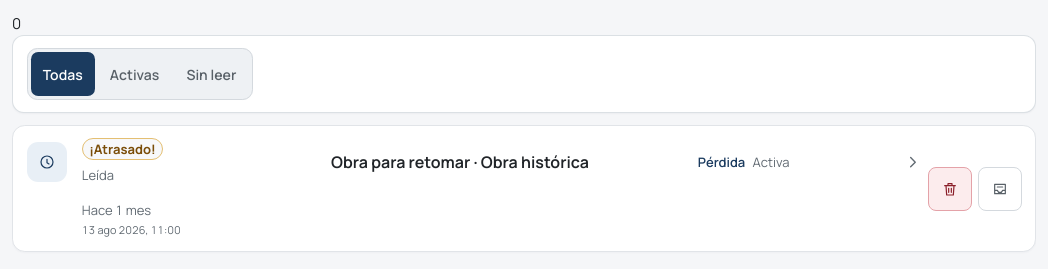
Test: NotificationsPage › increments active attention when a read active notification becomes unread
Click the button named "Marcar como no leída: Obra para retomar" at {"x": 1000, "y": 189}, box [978,167,1022,211]
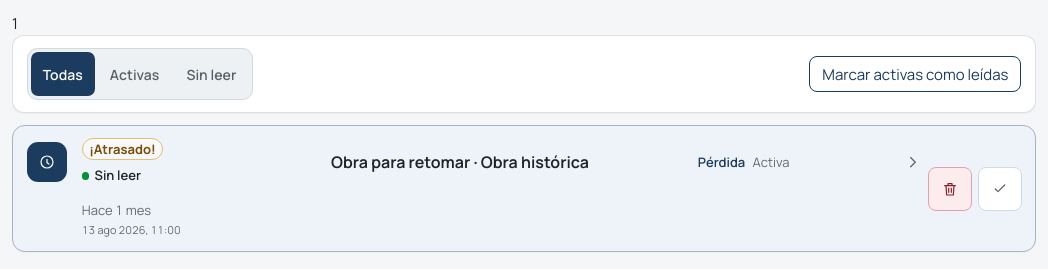
Expected: the text named "Contador sin leer" reads "1", [12,13,18,34]
